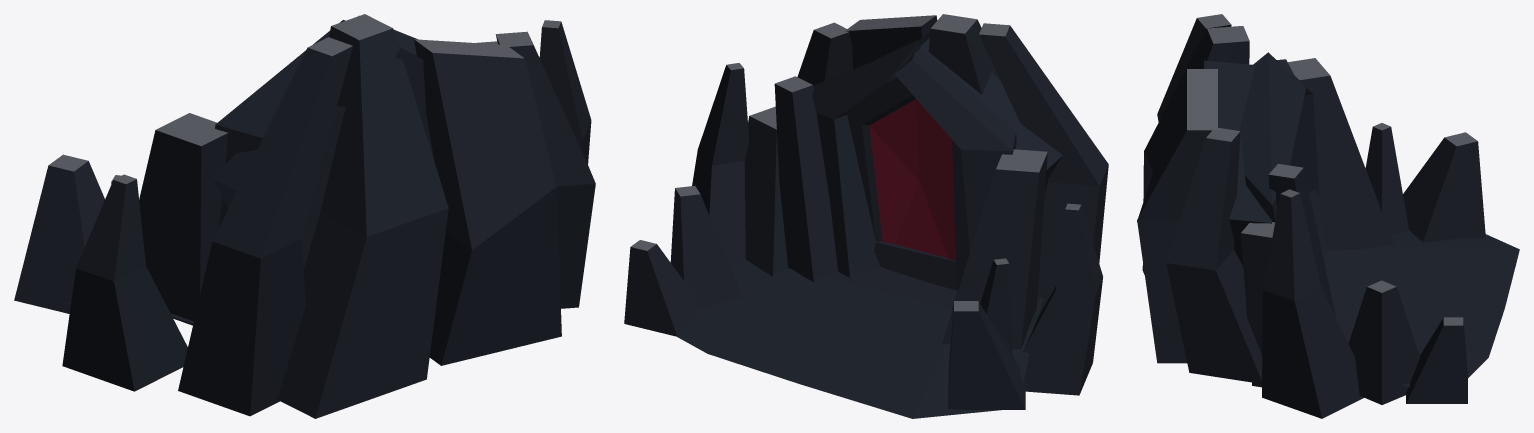
Rendered from portail.fbx.
The picture shows the model from 3 angles, left to right: view 1: azimuth 30°, elevation 25°; view 2: azimuth 150°, elevation 25°; view 3: azimuth 270°, elevation 25°; orthographic projection. The views are drawn at different scales.
Parts seen in each view (by area): view 1: Portail; view 2: Portail; view 3: Portail.
Part boxes in pixels (box(x1,y1,x2,y2)): Portail: box(14, 14, 595, 418); Portail: box(624, 14, 1108, 418); Portail: box(1137, 14, 1519, 418).
Bounding box in the file's own units: 997 × 683 × 785.
